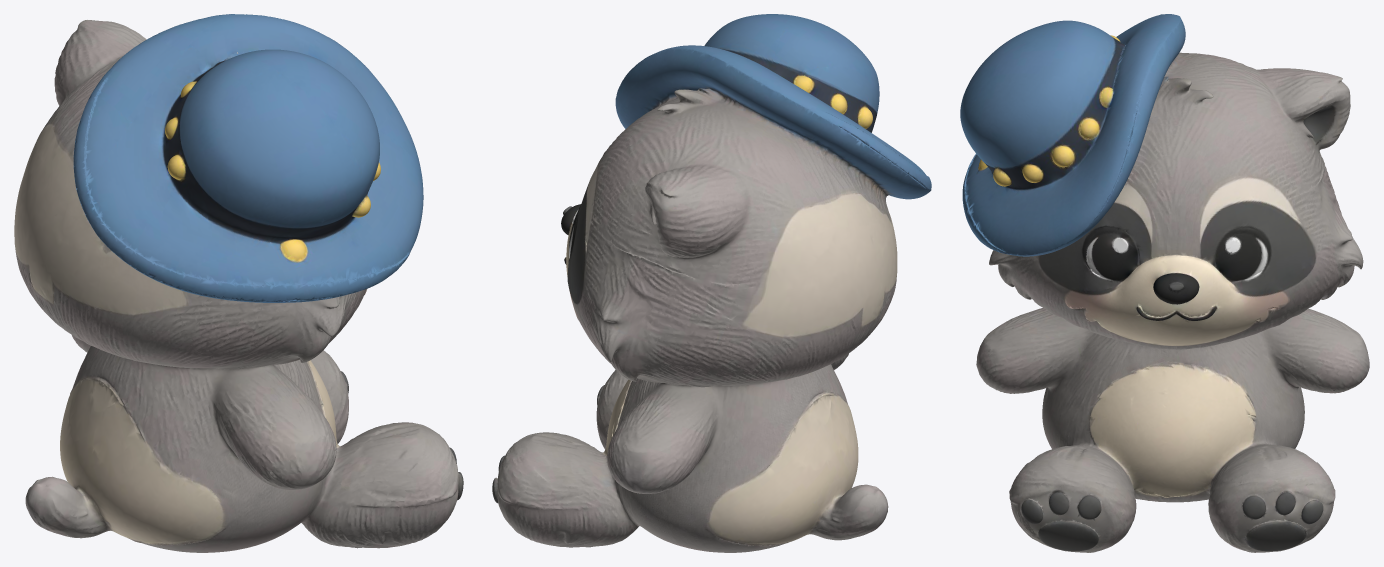
Rendered from opt_1_raccoon.glb.
The picture shows the model from 3 angles, left to right: view 1: azimuth 30°, elevation 25°; view 2: azimuth 150°, elevation 25°; view 3: azimuth 270°, elevation 25°; orthographic projection. The views are drawn at different scales.
Visible parts, largest first — view 1: tripo_node_8ae62cc6-e357-4440-b96a-916328006b38; view 2: tripo_node_8ae62cc6-e357-4440-b96a-916328006b38; view 3: tripo_node_8ae62cc6-e357-4440-b96a-916328006b38.
Boxes of the visible parts, bbox=[...] form: tripo_node_8ae62cc6-e357-4440-b96a-916328006b38: bbox=[14, 14, 463, 552]; tripo_node_8ae62cc6-e357-4440-b96a-916328006b38: bbox=[492, 14, 931, 552]; tripo_node_8ae62cc6-e357-4440-b96a-916328006b38: bbox=[960, 14, 1369, 552].
Size of the model in its own units: 0.7326 by 0.9996 by 0.8018.
1 material, 1 textured.
